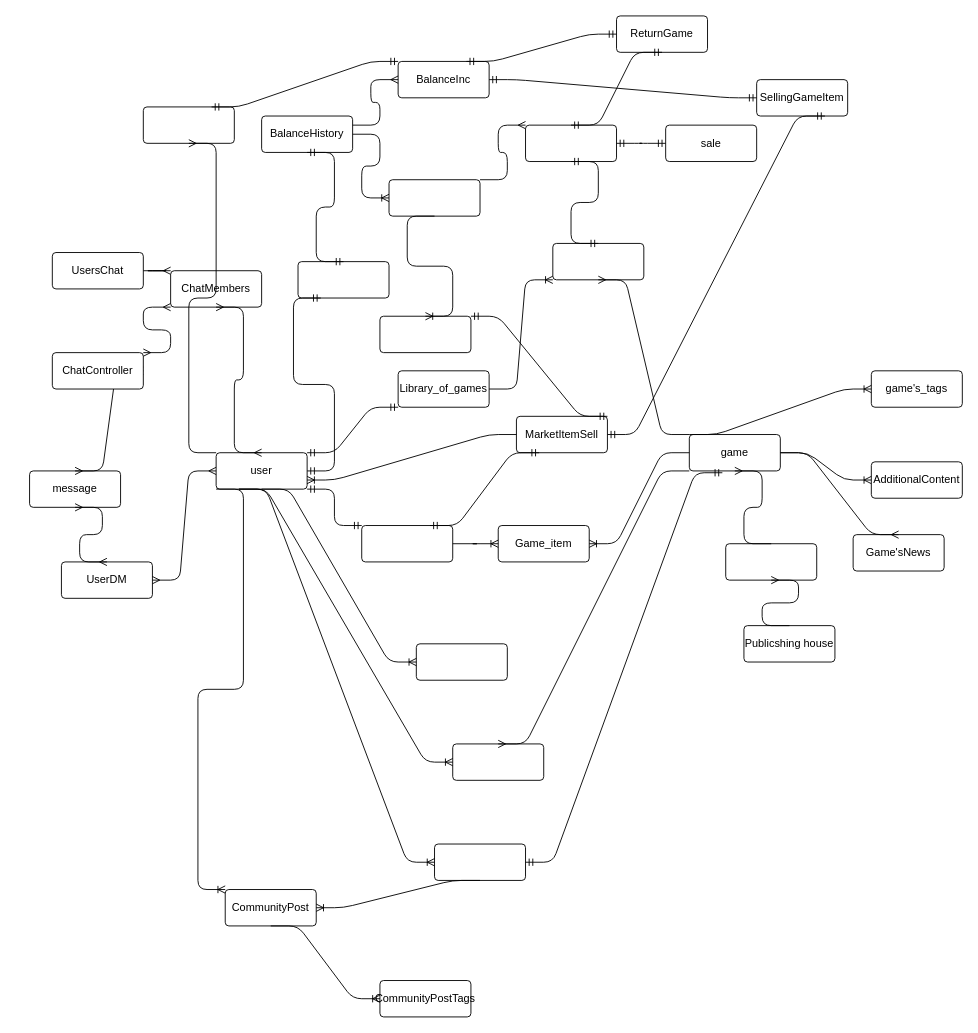
Image size: 978x1033. Some labels were removed from this diagram. The shapes that lost their labels are listed below. From the top down, each one's box as (x1, y1, x2, y2) in pixels, then its label:
(142, 106, 234, 143): newPayment
(525, 124, 617, 162): PurchaseGame
(388, 179, 480, 216): BalanceDec
(297, 261, 389, 298): balance_curr
(552, 243, 644, 280): GameCopy
(379, 315, 471, 353): PurchaseGameItem
(361, 525, 453, 562): Library_of_items
(725, 543, 817, 580): GameDeveloper
(415, 643, 507, 680): FriendsList
(452, 743, 544, 780): CommentsOnGame
(434, 843, 526, 880): GameCommunity
